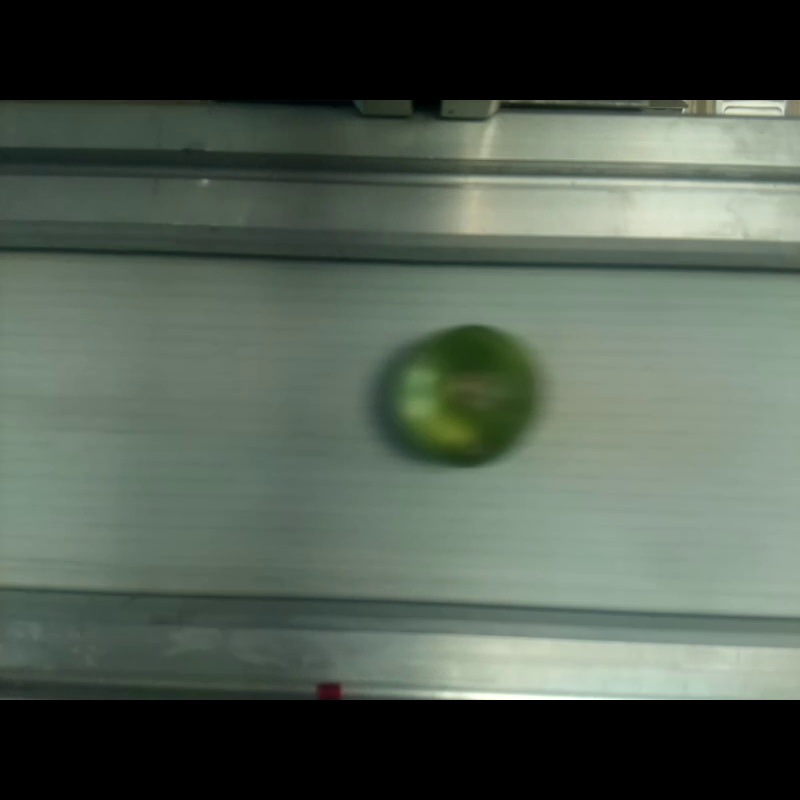lime: (384, 324, 531, 466)
